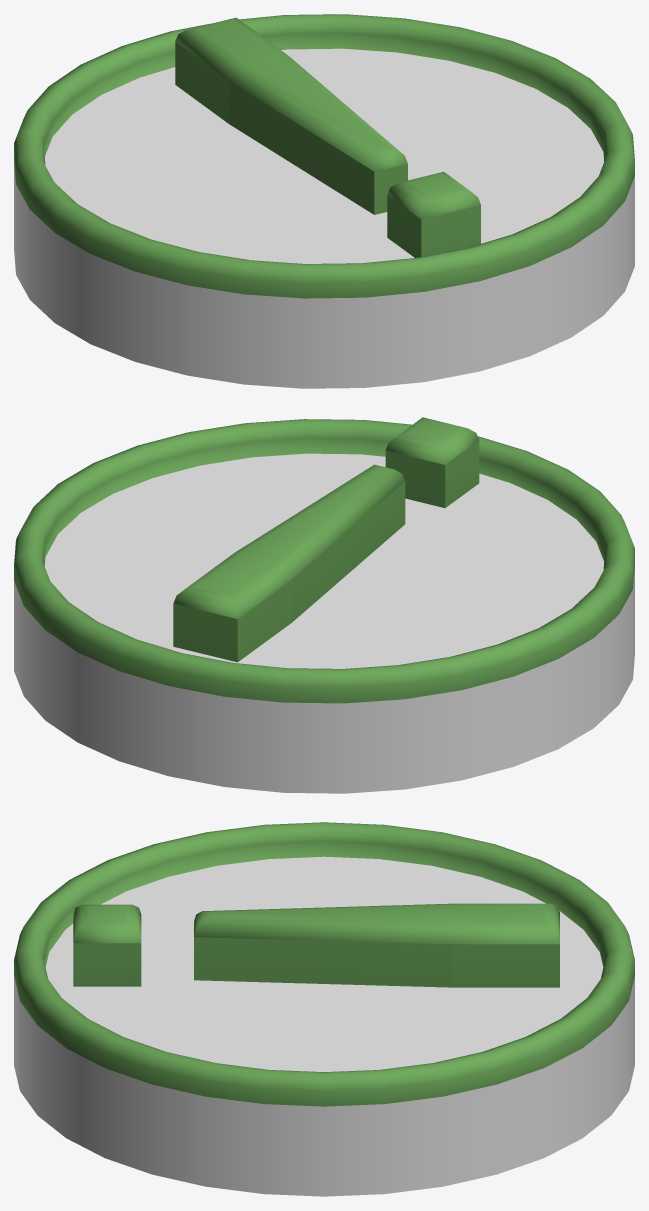
The model's file is AttentionCircle.fbx.
3 views of the same model, one above another, from view 1: azimuth 30°, elevation 25°; view 2: azimuth 150°, elevation 25°; view 3: azimuth 270°, elevation 25° (orthographic).
Parts seen in each view (by area): view 1: AttentionCircle, Attention; view 2: AttentionCircle, Attention; view 3: AttentionCircle, Attention.
Boxes of the visible parts, x1,y1,x2,y2 form: AttentionCircle: [14, 14, 634, 388]; Attention: [175, 17, 480, 257]; AttentionCircle: [14, 419, 634, 793]; Attention: [173, 417, 479, 662]; AttentionCircle: [14, 822, 634, 1196]; Attention: [73, 903, 559, 987].
Size of the model in its own units: 200 by 54.03 by 200.
